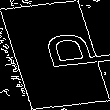P_W: (9, 32, 101, 78)
